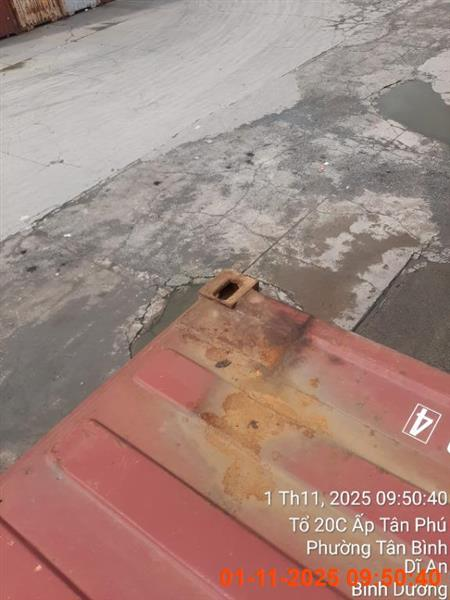hole: (1, 269, 448, 597)
